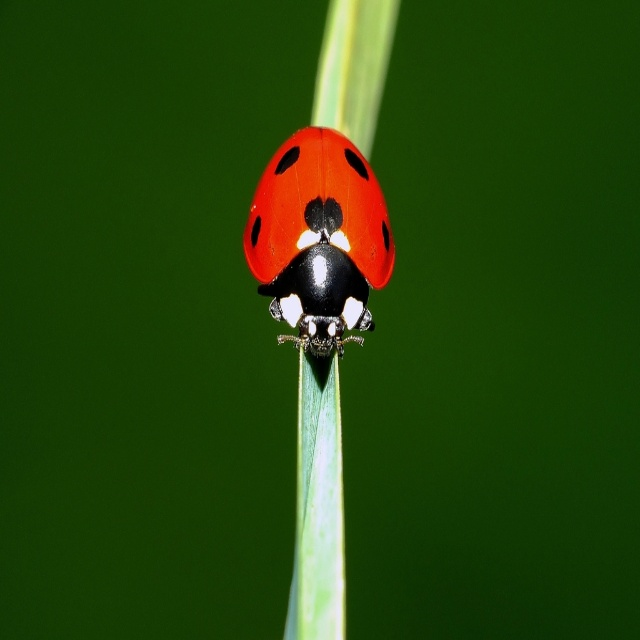Ladybug: (244, 128, 394, 366)
